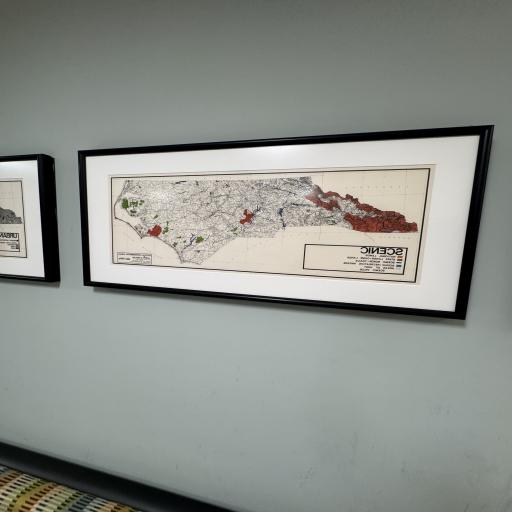poster: (72, 117, 494, 319), (2, 148, 54, 283)
